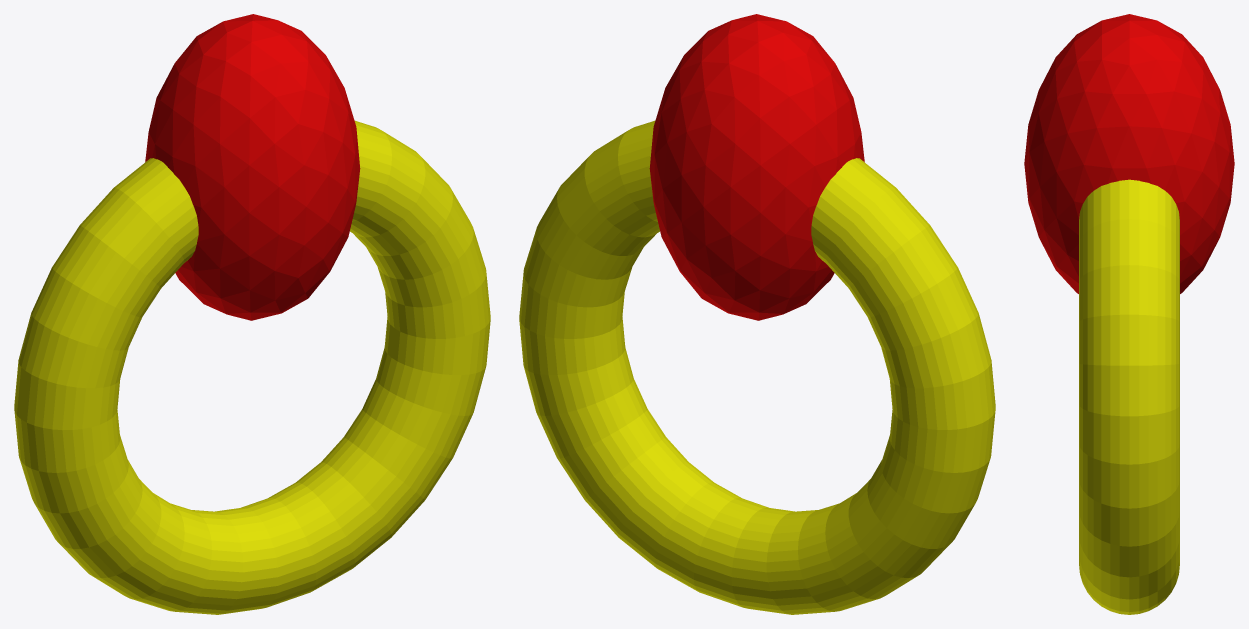
Rendered from ring_meshes_yellow_red.glb.
3 renders of one model, left to right at view 1: azimuth 30°, elevation 25°; view 2: azimuth 150°, elevation 25°; view 3: azimuth 270°, elevation 25°, orthographic. The views are drawn at different scales.
Visible parts, largest first — view 1: ring; view 2: ring; view 3: ring.
Part boxes in pixels (x1,y1,x2,y2): ring: (14, 14, 490, 614); ring: (519, 14, 995, 614); ring: (1024, 14, 1234, 614).
Size of the model in its own units: 12.4 by 14.95 by 5.
